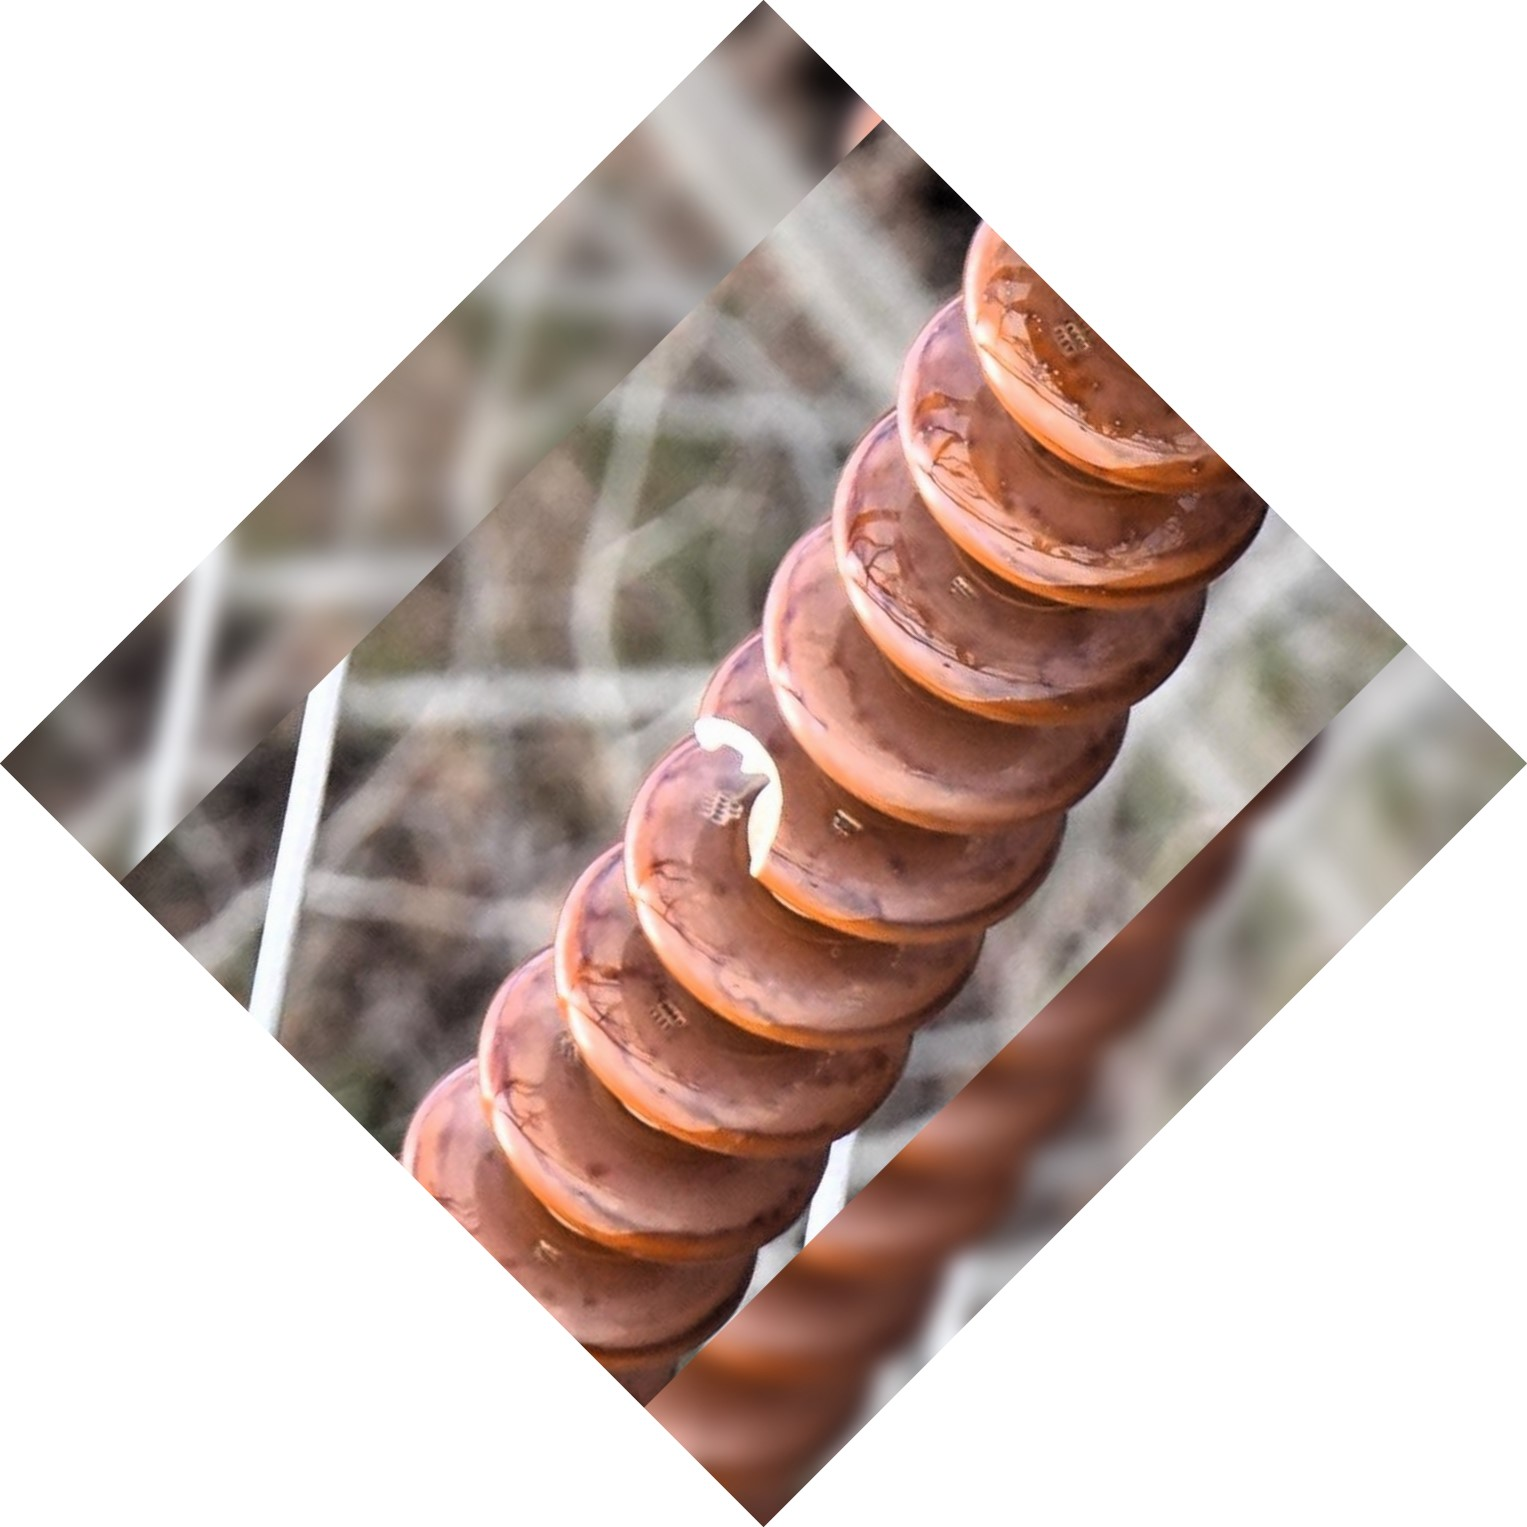insulator breakage: (680, 632, 1001, 941)
